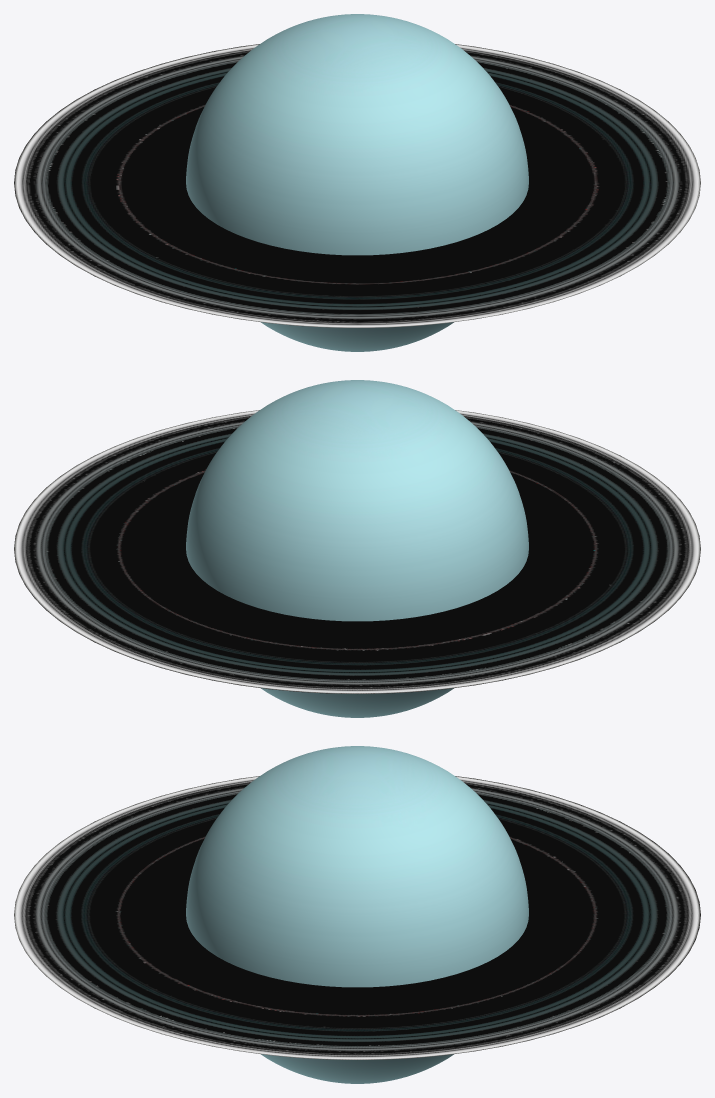
File: uranus.glb
The picture shows the model from 3 angles, top to bottom: view 1: azimuth 30°, elevation 25°; view 2: azimuth 150°, elevation 25°; view 3: azimuth 270°, elevation 25°; orthographic projection.
Visible parts, largest first — view 1: Circle_3, Sphere_2; view 2: Circle_3, Sphere_2; view 3: Circle_3, Sphere_2.
Part boxes in pixels (x1=…): Circle_3: x1=14, y1=44, x2=700, y2=327; Sphere_2: x1=186, y1=14, x2=528, y2=351; Circle_3: x1=14, y1=410, x2=700, y2=693; Sphere_2: x1=186, y1=380, x2=528, y2=717; Circle_3: x1=14, y1=776, x2=700, y2=1059; Sphere_2: x1=186, y1=746, x2=528, y2=1083.
Bounding box in the file's own units: 3.98 × 1.95 × 3.98.
2 materials, 2 textured.
